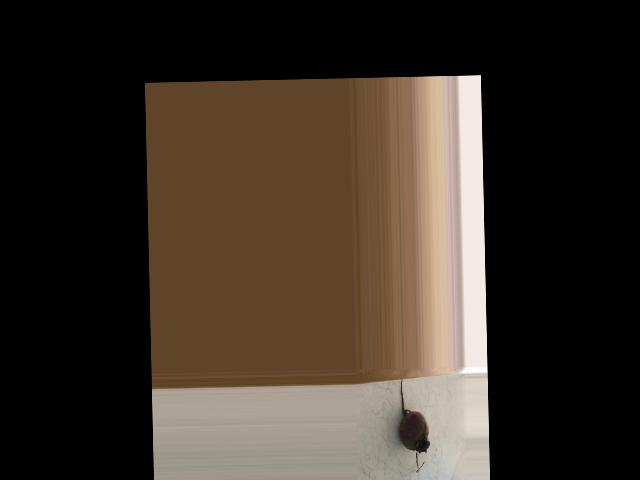beet: (398, 375, 429, 472)
